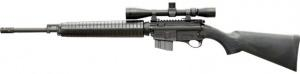rifle: (1, 2, 300, 73)
